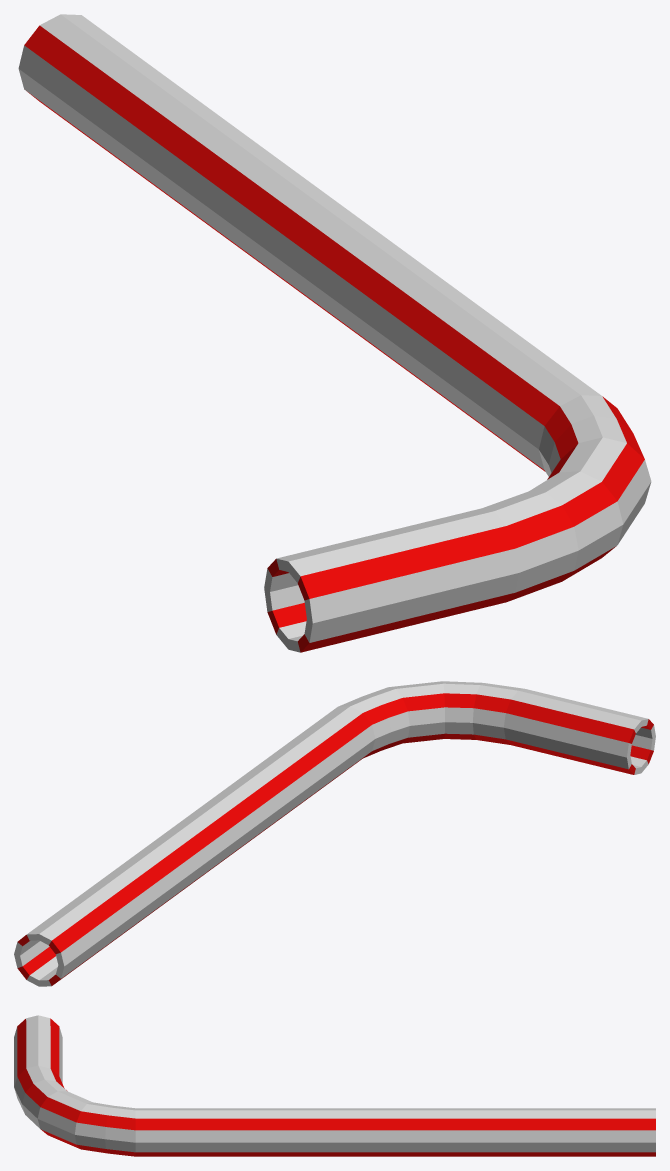
Rendered from Canudo.fbx.
3 views of the same model, one above another, from view 1: azimuth 30°, elevation 25°; view 2: azimuth 150°, elevation 25°; view 3: azimuth 270°, elevation 25° (orthographic). The views are drawn at different scales.
Visible parts, largest first — view 1: Torus; view 2: Torus; view 3: Torus.
Boxes of the visible parts, <box> form: Torus: <box>18,14,651,652</box>; Torus: <box>14,681,655,986</box>; Torus: <box>14,1015,655,1156</box>.
Bounding box in the file's own units: 83.29 × 16.24 × 214.
